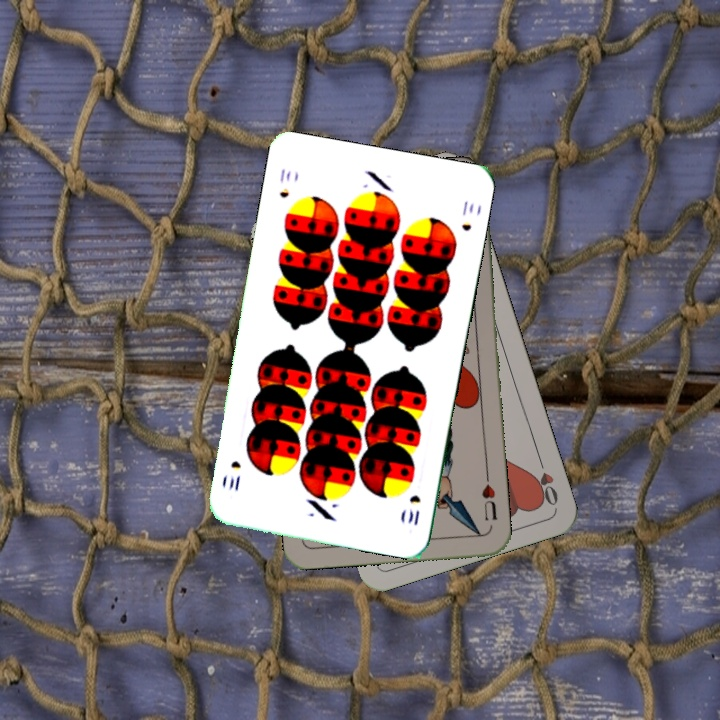HO: (530, 452, 561, 509)
HU: (478, 471, 500, 523)
S10: (404, 490, 423, 528), (275, 164, 293, 201)
